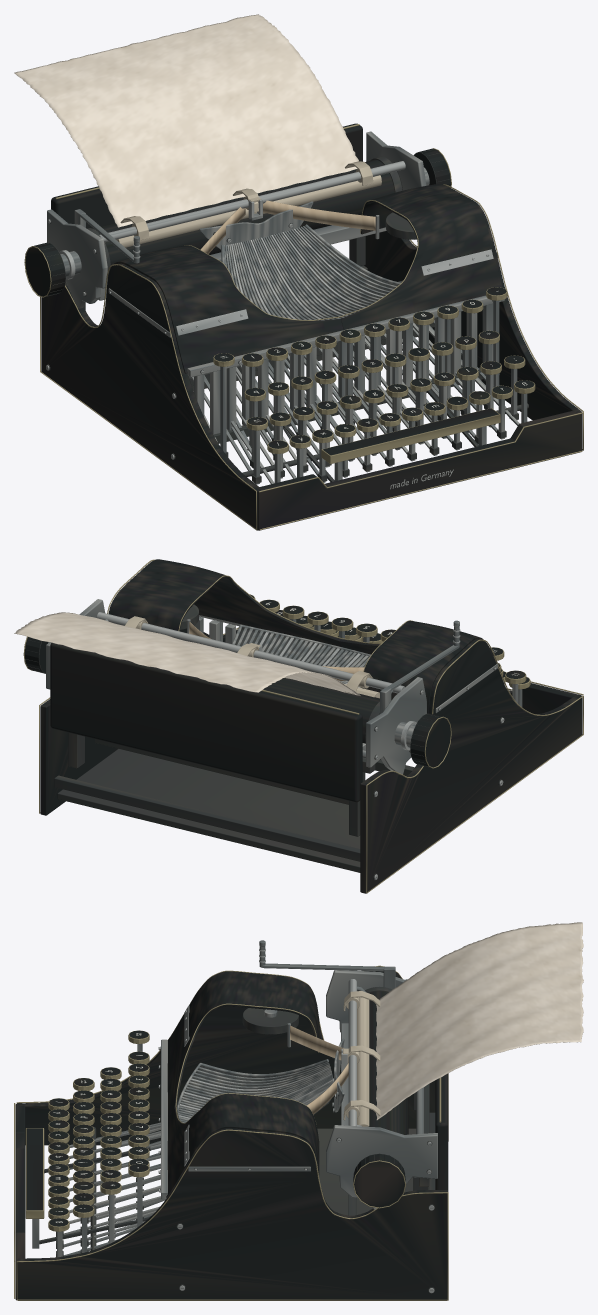
File: typewriter-astra.glb
3 renders of one model, top to bottom at view 1: azimuth 30°, elevation 25°; view 2: azimuth 150°, elevation 25°; view 3: azimuth 270°, elevation 25°, orthographic.
Visible parts, largest first — view 1: Front apron with lowered central opening, Single gently curled deckle edged paper sheet, Basket side rail, Curved upright type guide shield, Front apron bottom brass edge, Keyboard row 1 key 00 inset black key face, Recessed curved typebar cradle, Internal transverse chassis member, Black rubber platen, Left front silver shoulder strip, Left knob outer face, Central printing fork upright (+3 smaller); view 2: Front apron with lowered central opening, Left knob outer face, Internal transverse chassis member, Single gently curled deckle edged paper sheet, Curved upright type guide shield, Front apron bottom brass edge, Basket side rail, Keyboard row 1 key 00 inset black key face, Central printing fork upright, Black rubber platen, Recessed curved typebar cradle, Bent paper retaining clip 0; view 3: Front apron with lowered central opening, Single gently curled deckle edged paper sheet, Front apron bottom brass edge, Curved upright type guide shield, Keyboard row 1 key 00 inset black key face, Basket side rail, Internal transverse chassis member, Left knob outer face, Recessed curved typebar cradle, Black rubber platen, Central printing fork top bridge, Left faded ribbon span (+5 smaller).
Boxes of the visible parts, <box> form: Front apron with lowered central opening: <box>41,184,582,530</box>; Single gently curled deckle edged paper sheet: <box>14,14,358,227</box>; Basket side rail: <box>60,167,527,484</box>; Curved upright type guide shield: <box>47,131,426,320</box>; Front apron bottom brass edge: <box>24,124,583,530</box>; Keyboard row 1 key 00 inset black key face: <box>27,148,534,455</box>; Recessed curved typebar cradle: <box>225,227,397,320</box>; Internal transverse chassis member: <box>37,149,518,483</box>; Black rubber platen: <box>93,159,402,266</box>; Left front silver shoulder strip: <box>176,228,493,335</box>; Left knob outer face: <box>25,123,362,296</box>; Central printing fork upright: <box>59,161,405,279</box>; Front apron with lowered central opening: <box>40,559,582,893</box>; Left knob outer face: <box>50,643,450,802</box>; Internal transverse chassis member: <box>26,604,503,877</box>; Single gently curled deckle edged paper sheet: <box>14,612,360,695</box>; Curved upright type guide shield: <box>46,599,426,774</box>; Front apron bottom brass edge: <box>23,559,583,893</box>; Basket side rail: <box>48,615,522,750</box>; Keyboard row 1 key 00 inset black key face: <box>24,594,529,767</box>; Central printing fork upright: <box>96,612,416,750</box>; Black rubber platen: <box>263,678,379,743</box>; Recessed curved typebar cradle: <box>235,627,368,667</box>; Bent paper retaining clip 0: <box>125,616,372,694</box>; Front apron with lowered central opening: <box>15,971,448,1300</box>; Single gently curled deckle edged paper sheet: <box>376,922,583,1120</box>; Front apron bottom brass edge: <box>14,965,448,1300</box>; Curved upright type guide shield: <box>178,970,437,1209</box>; Keyboard row 1 key 00 inset black key face: <box>26,966,405,1226</box>; Basket side rail: <box>32,963,395,1257</box>; Internal transverse chassis member: <box>39,977,435,1290</box>; Left knob outer face: <box>354,1073,448,1207</box>; Recessed curved typebar cradle: <box>179,1063,331,1116</box>; Black rubber platen: <box>369,991,408,1134</box>; Central printing fork top bridge: <box>343,997,369,1126</box>; Left faded ribbon span: <box>290,1025,348,1114</box>.
Size of the model in its own units: 0.8105 by 0.4649 by 1.
